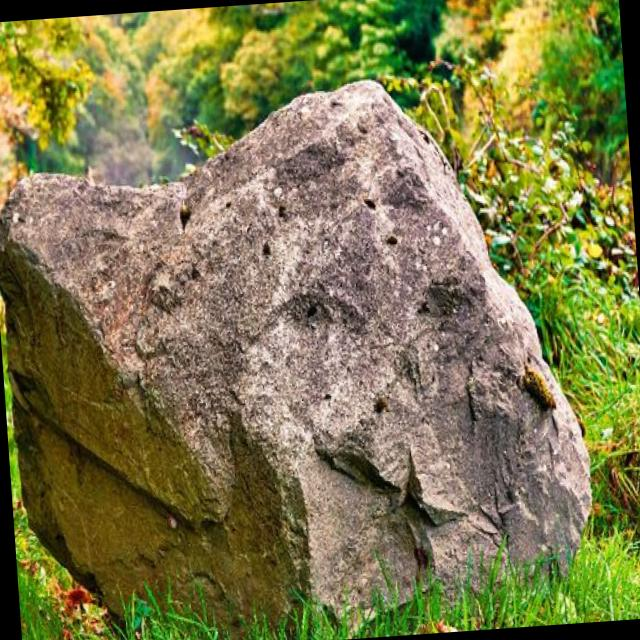grass: (239, 281, 640, 640)
rocks: (0, 82, 589, 632)
